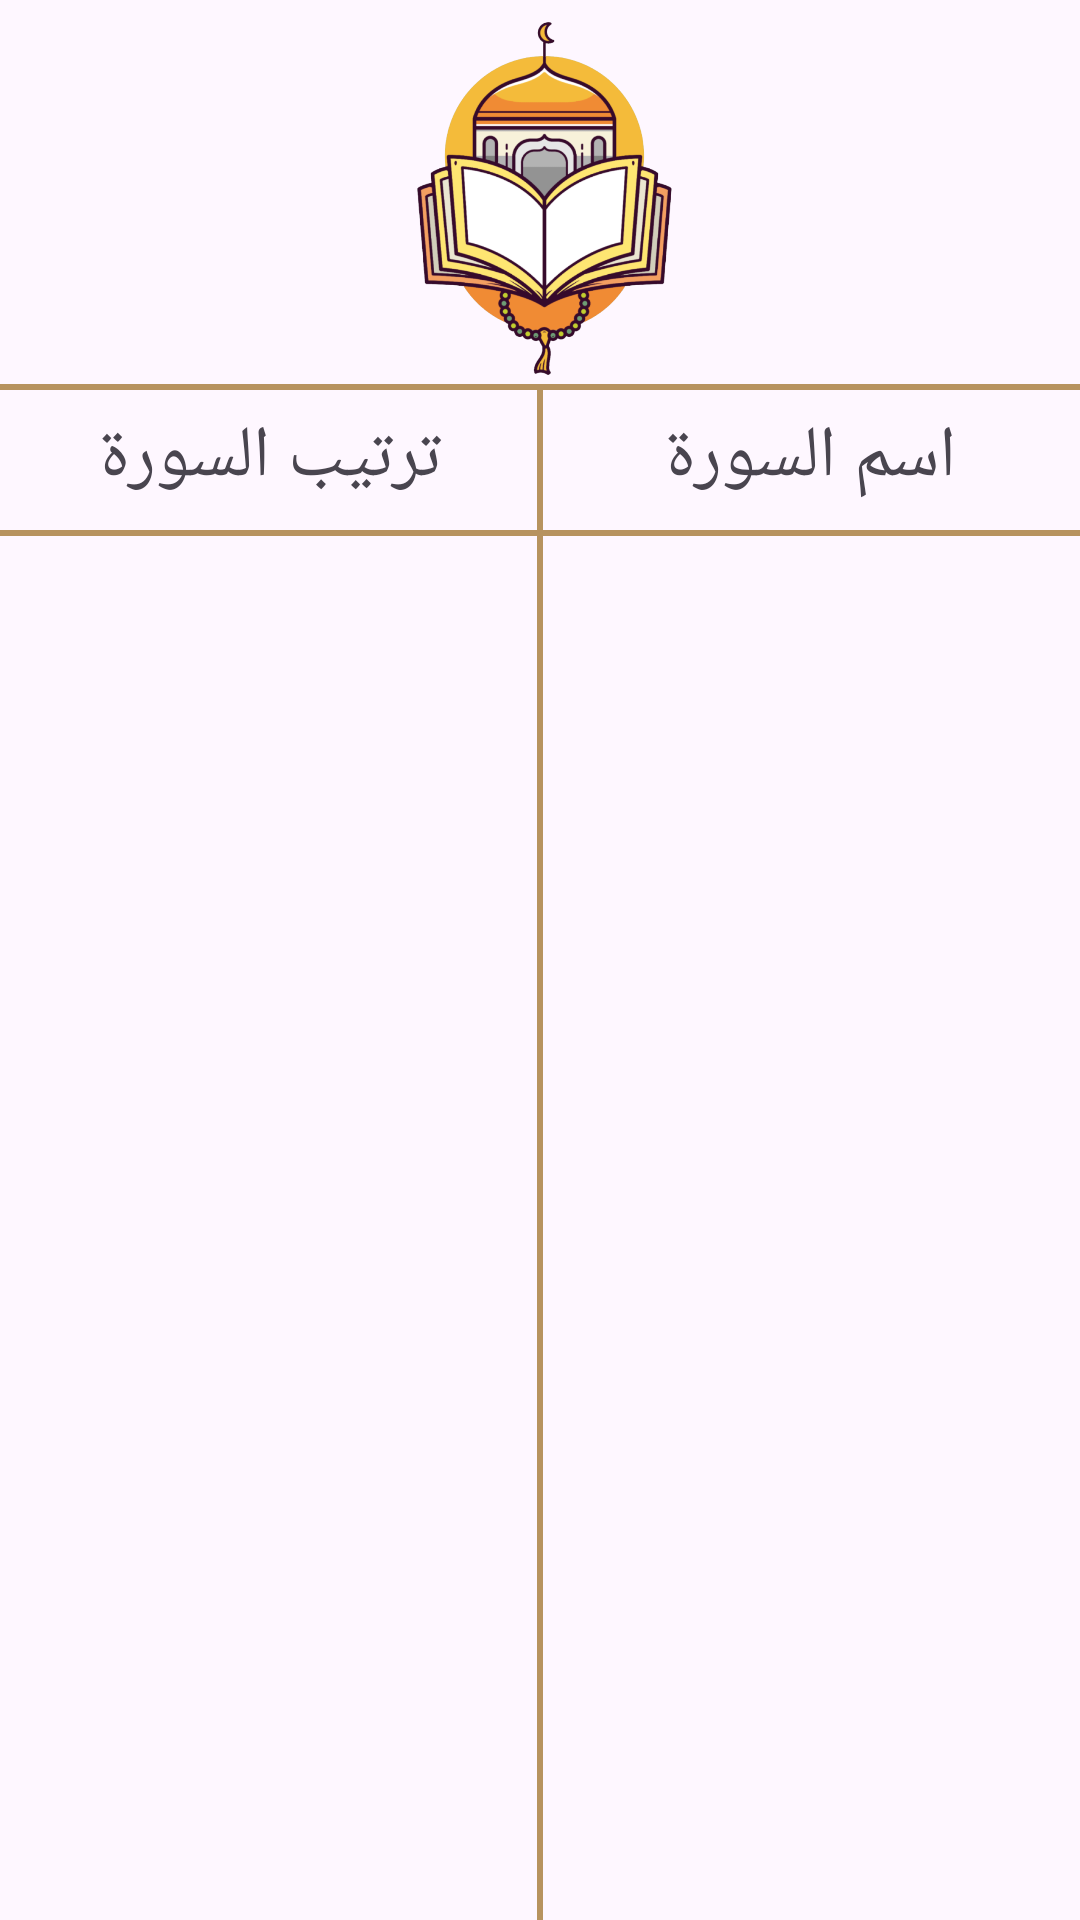

Locate icon controls on the screen. Image size 1080px x 1920px, boxes as (x1,y1,x2,y2).
quran main: (417,22,672,375)
